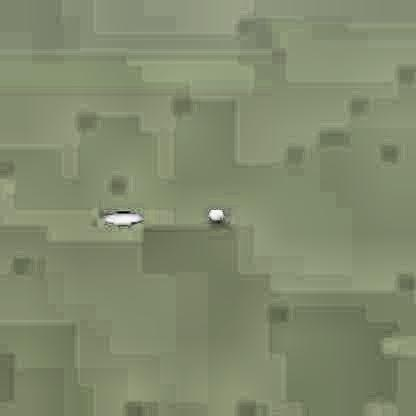golfball: (206, 207, 222, 222)
